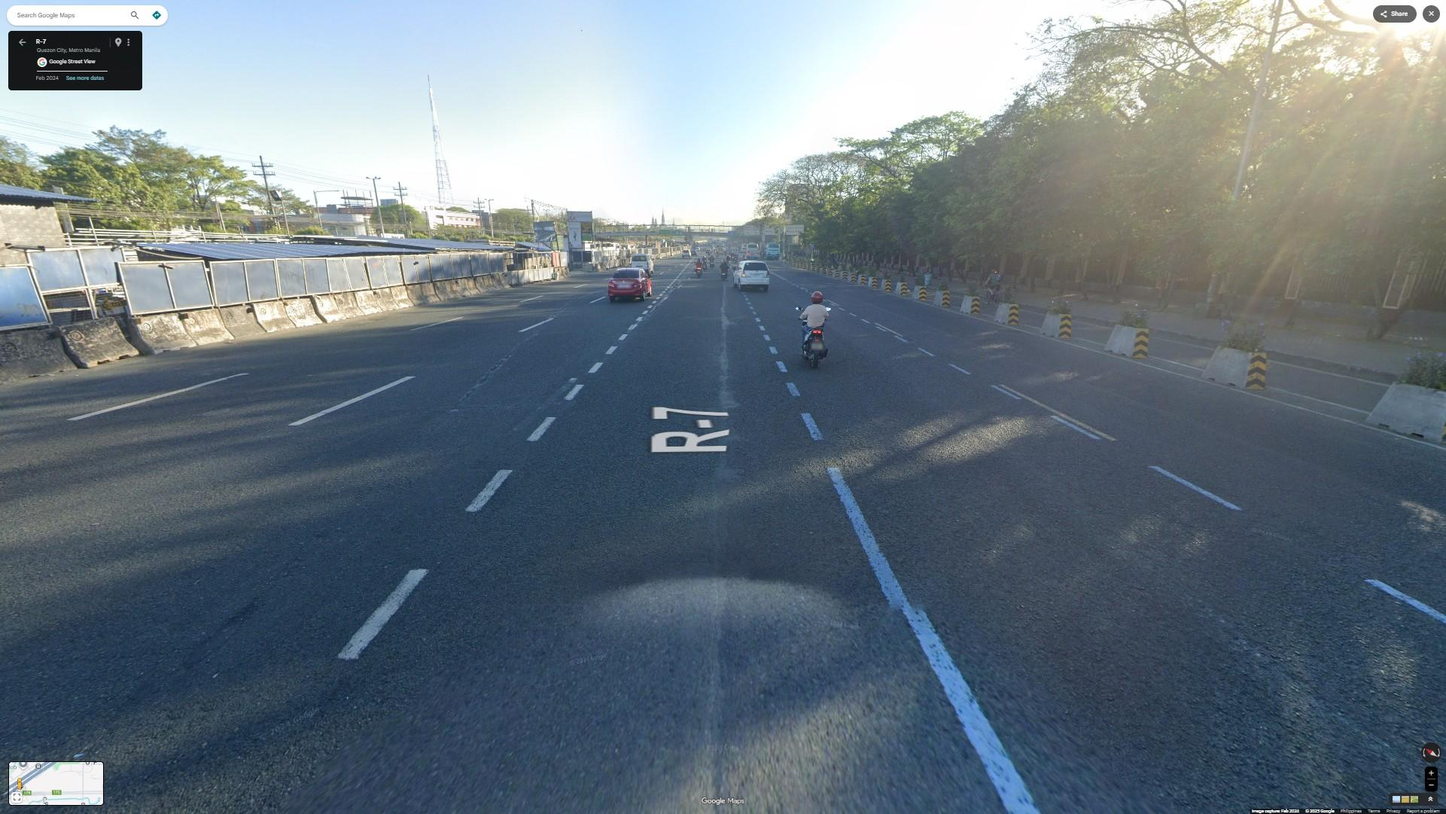cyclist: (984, 267, 1002, 307)
